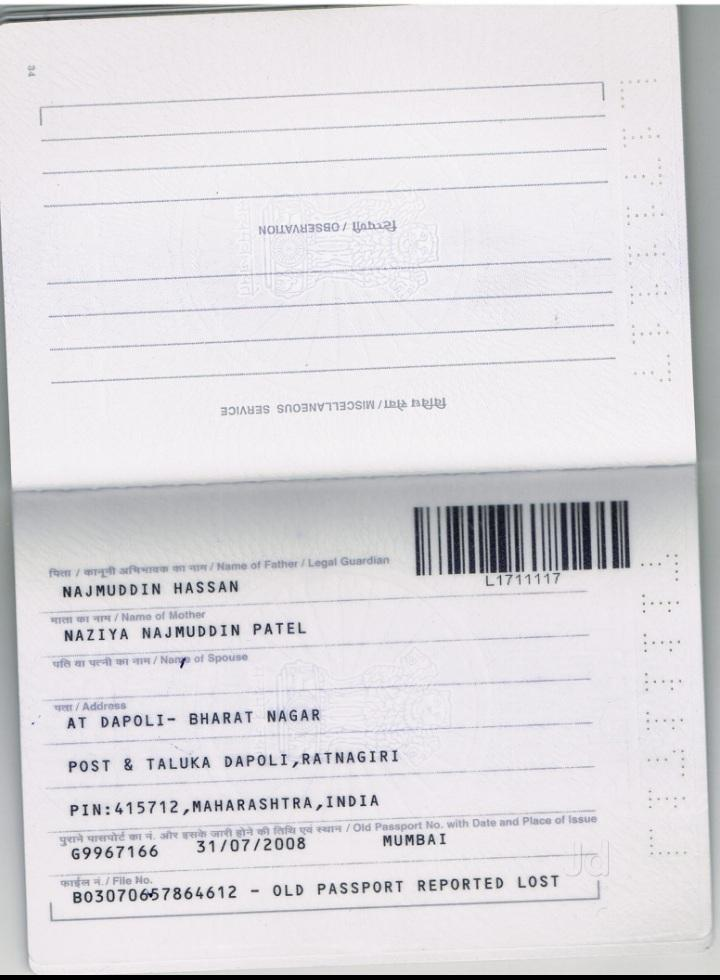File_no: (61, 882, 242, 910)
address: (53, 703, 413, 831)
father_name: (54, 576, 266, 605)
mother_name: (54, 618, 337, 645)
old_passport_details: (56, 830, 475, 862)
passport_no: (480, 568, 578, 592)
